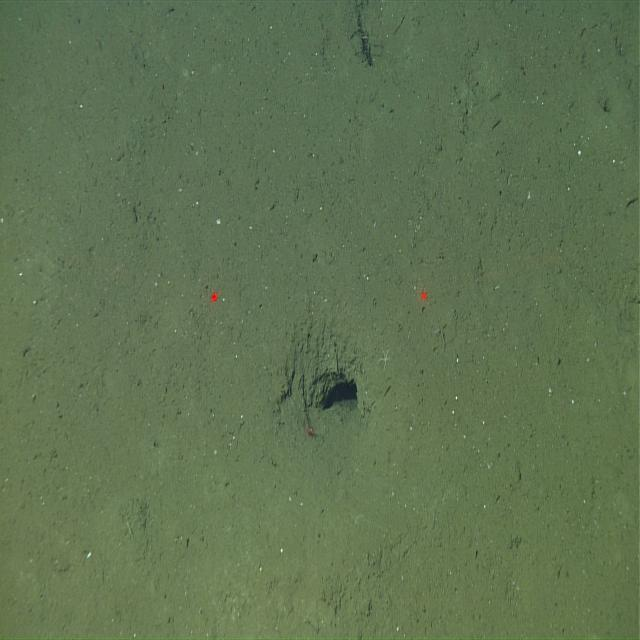Brittle Star: (377, 343, 394, 372)
